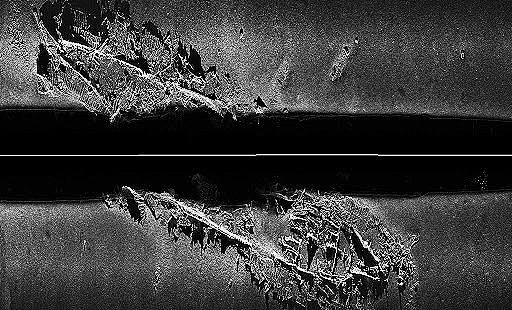ship: (29, 9, 408, 295)
